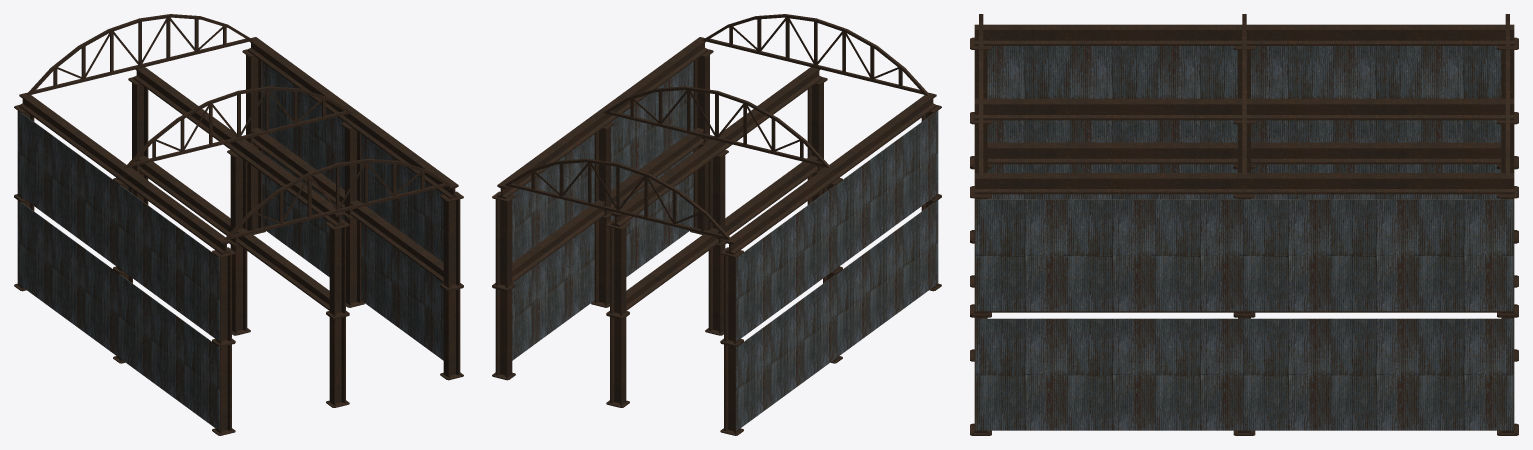
Rendered from warehouse_hl_1.glb.
3 views of the same model, side by side, from view 1: azimuth 30°, elevation 25°; view 2: azimuth 150°, elevation 25°; view 3: azimuth 270°, elevation 25° (orthographic). The views are drawn at different scales.
Visible parts, largest first — view 1: warehouse_hl_1; view 2: warehouse_hl_1; view 3: warehouse_hl_1.
Part boxes in pixels (left/top/right/bottom): warehouse_hl_1: left=14, top=14, right=463, bottom=435; warehouse_hl_1: left=492, top=14, right=941, bottom=435; warehouse_hl_1: left=970, top=14, right=1518, bottom=435.
Bounding box in the file's own units: 8.6 × 8.02 × 12.5.
Materials: 2 (2 with a texture image).
